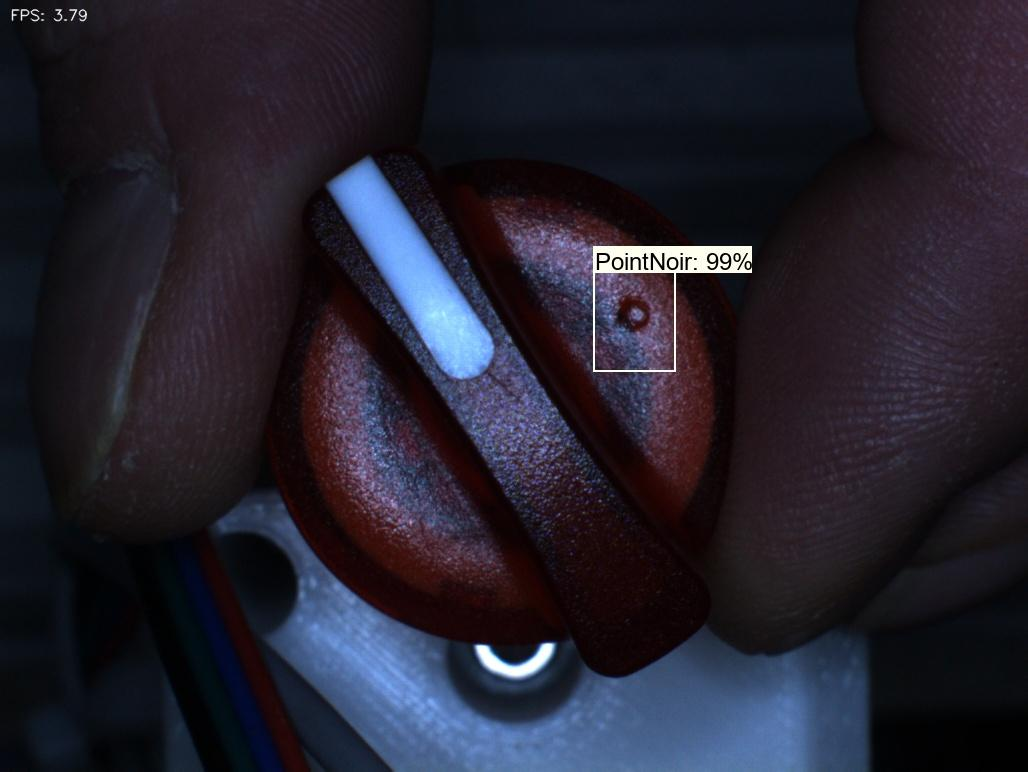Choc: (586, 277, 682, 359)
